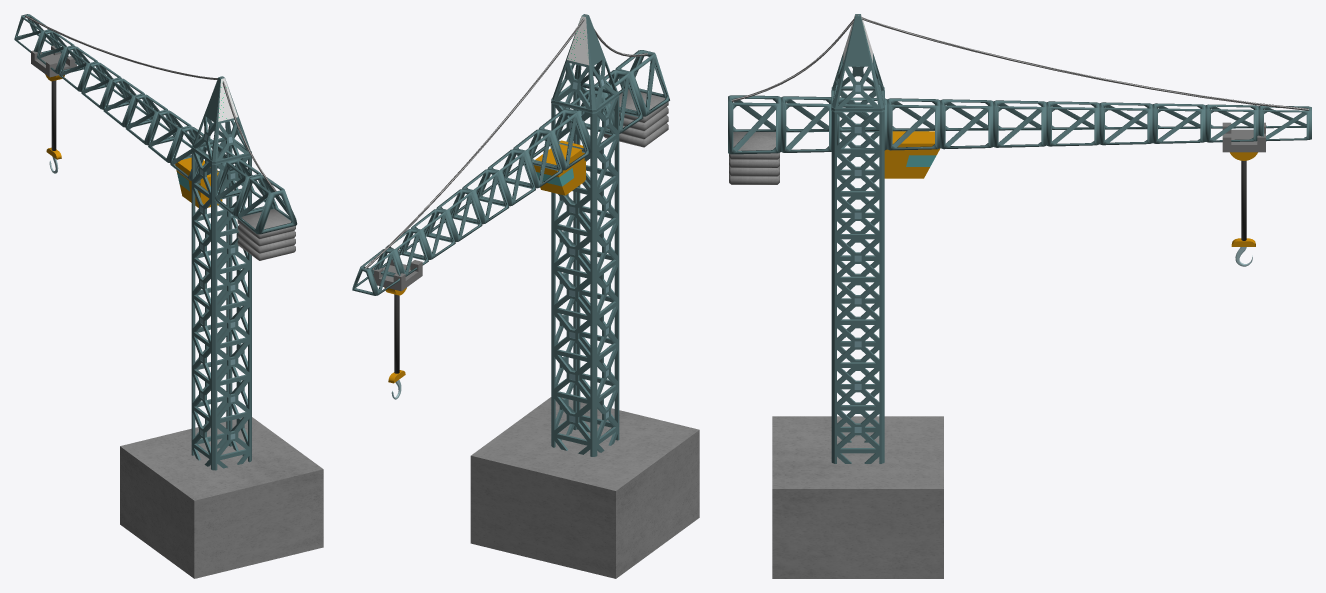
Rendered from Crane.fbx.
3 renders of one model, left to right at view 1: azimuth 30°, elevation 25°; view 2: azimuth 150°, elevation 25°; view 3: azimuth 270°, elevation 25°, orthographic. The views are drawn at different scales.
Parts seen in each view (by area): view 1: ConcreteBlock, Crane, Crane.001, Crane.002, Cube.015, Cube.002, Cube.016, BézierCurve.002, HookCable; view 2: ConcreteBlock, Crane, Crane.001, Crane.002, Cube.015, Cube.002, BézierCurve.002, Cube.016, HookCable; view 3: ConcreteBlock, Crane, Crane.001, Crane.002, Cube.015, Cube.002, BézierCurve.002, Cube.016.
Part boxes in pixels (x1,y1,x2,y2): ConcreteBlock: (120, 417, 323, 578); Crane: (191, 137, 251, 470); Crane.001: (14, 14, 297, 234); Crane.002: (191, 76, 250, 164); Cube.015: (237, 209, 295, 260); Cube.002: (175, 157, 222, 207); Cube.016: (31, 45, 76, 77); BézierCurve.002: (25, 15, 217, 79); HookCable: (51, 80, 56, 150); ConcreteBlock: (470, 397, 699, 578); Crane: (551, 83, 619, 456); Crane.001: (352, 50, 669, 295); Crane.002: (551, 14, 619, 113); Cube.015: (603, 89, 668, 147); Cube.002: (533, 140, 585, 195); BézierCurve.002: (364, 18, 584, 268); Cube.016: (372, 257, 422, 291); HookCable: (394, 294, 399, 373); ConcreteBlock: (772, 416, 943, 578); Crane: (831, 86, 884, 463); Crane.001: (728, 95, 1311, 154); Crane.002: (831, 14, 884, 112); Cube.015: (729, 132, 779, 184); Cube.002: (884, 131, 940, 178); BézierCurve.002: (861, 17, 1309, 110); Cube.016: (1222, 122, 1265, 152).
Size of the model in its own units: 7.27 by 24.71 by 24.67.
